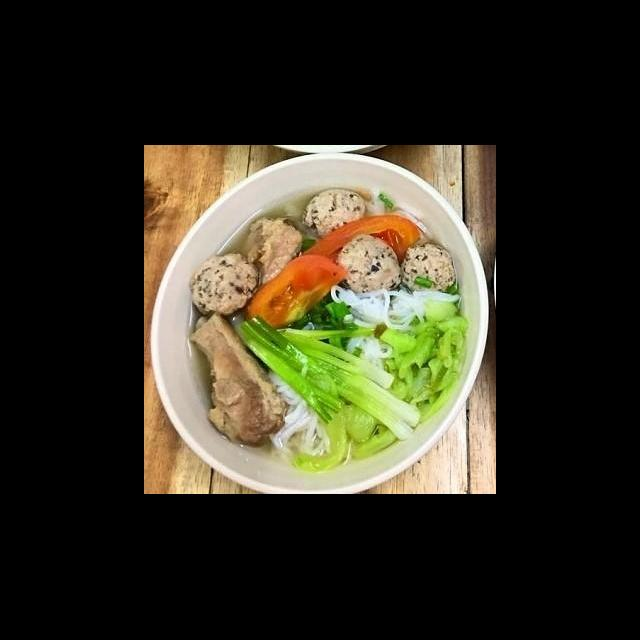bun: (325, 281, 461, 374), (264, 364, 334, 459)
bun moc: (165, 164, 496, 493)
thit heo: (186, 308, 290, 452), (237, 212, 305, 288)
vien moc: (185, 250, 261, 318), (332, 232, 404, 298), (299, 186, 369, 243), (398, 240, 457, 296)
